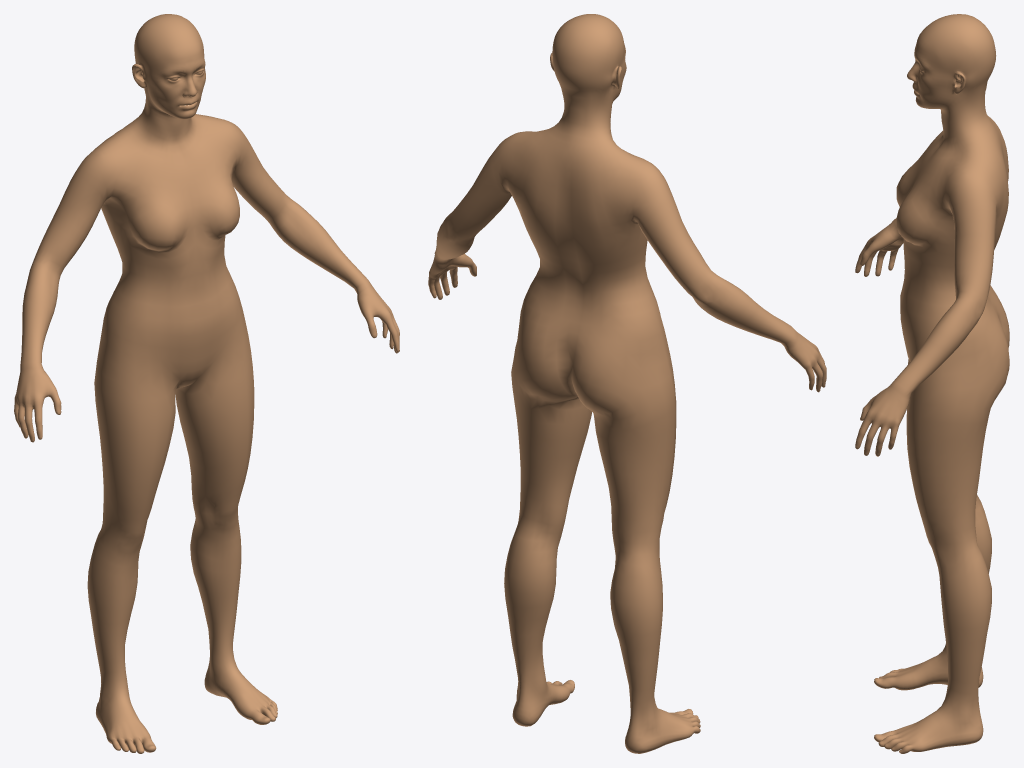
File: maniqui-mujer.glb
3 renders of one model, left to right at view 1: azimuth 30°, elevation 25°; view 2: azimuth 150°, elevation 25°; view 3: azimuth 270°, elevation 25°, orthographic. The views are drawn at different scales.
Visible parts, largest first — view 1: cuerpo; view 2: cuerpo; view 3: cuerpo.
Part boxes in pixels (box(x1,y1,x2,y2)): cuerpo: box(14, 14, 399, 753); cuerpo: box(428, 14, 826, 753); cuerpo: box(855, 14, 1009, 753).
Size of the model in its own units: 0.9275 by 1.63 by 0.327.
